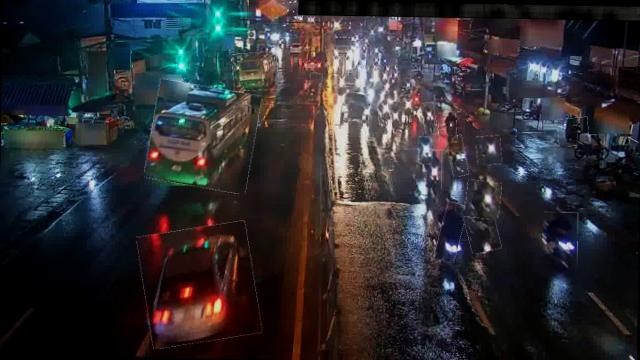Bike: (542, 211, 578, 268), (436, 202, 466, 263), (465, 210, 501, 254), (464, 180, 501, 219), (576, 134, 605, 168), (557, 116, 589, 146), (448, 135, 468, 176), (476, 136, 502, 165), (426, 150, 442, 188), (437, 112, 457, 142), (376, 92, 392, 126), (421, 102, 437, 134), (418, 136, 432, 164), (390, 102, 404, 130), (308, 72, 322, 100), (404, 95, 414, 120)
Bus: (147, 82, 259, 190), (232, 51, 278, 91)
Car: (138, 222, 260, 346), (340, 92, 370, 122)
